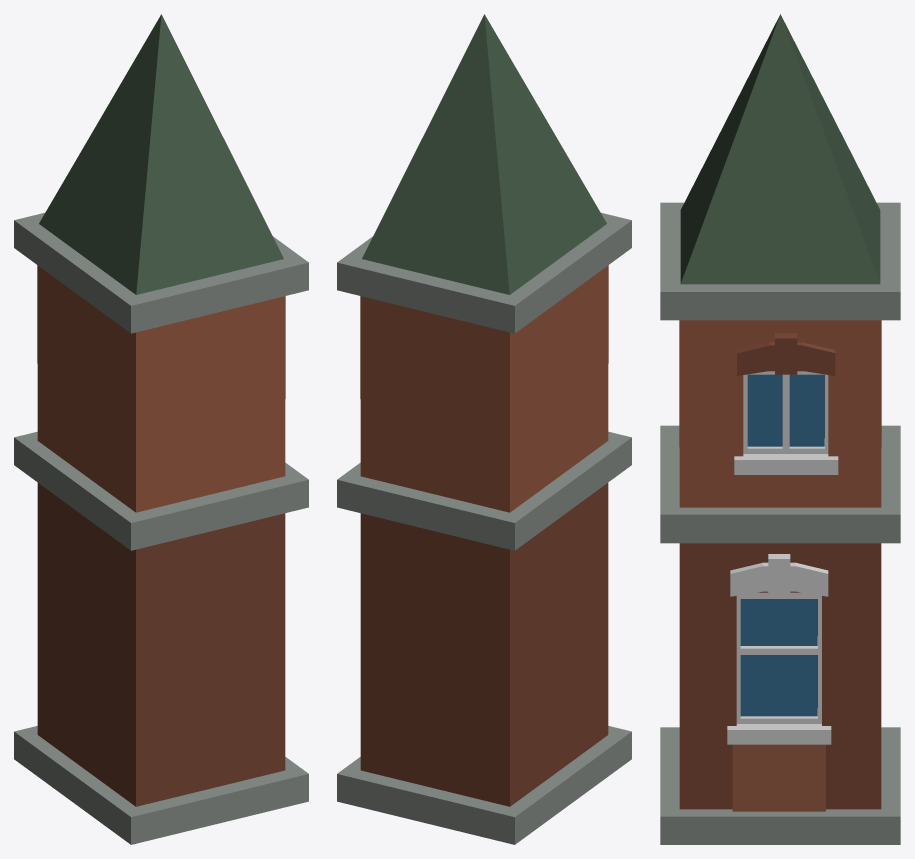
The model's file is FrontExtension-1-4.gltf.
3 renders of one model, left to right at view 1: azimuth 30°, elevation 25°; view 2: azimuth 150°, elevation 25°; view 3: azimuth 270°, elevation 25°, orthographic. The views are drawn at different scales.
Visible parts, largest first — view 1: FrontExtension-1-4; view 2: FrontExtension-1-4; view 3: FrontExtension-1-4.
Part boxes in pixels (x1,y1,x2,y2): FrontExtension-1-4: (14,14,308,844); FrontExtension-1-4: (337,14,631,844); FrontExtension-1-4: (660,14,900,844).
Size of the model in its own units: 2.37 by 9.78 by 2.71.
Materials: 2 (1 with a texture image).
